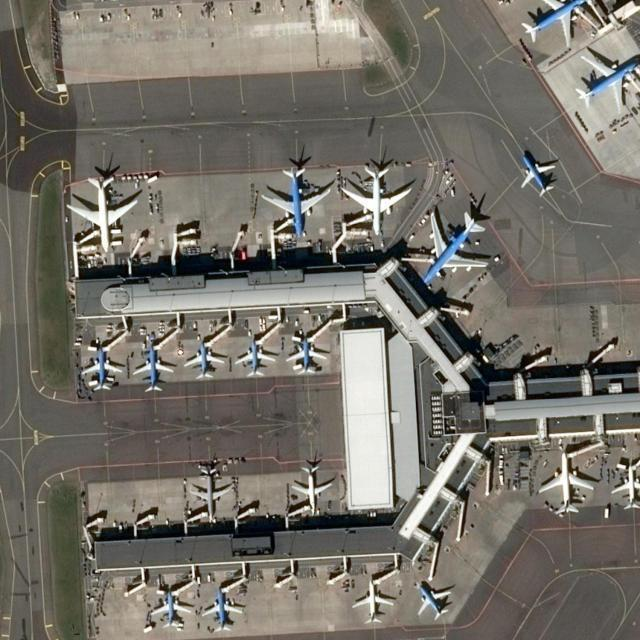Aircraft: (67, 173, 143, 253), (419, 204, 493, 286), (339, 160, 415, 236), (260, 162, 333, 239), (574, 53, 640, 111), (520, 1, 596, 49), (539, 451, 595, 516), (188, 461, 234, 519), (289, 461, 336, 515), (134, 344, 174, 394), (81, 347, 125, 392), (350, 579, 394, 624), (519, 150, 561, 197), (203, 585, 245, 632), (286, 332, 328, 376), (151, 584, 193, 628), (414, 579, 456, 621), (234, 339, 276, 378), (184, 340, 225, 379), (612, 461, 640, 511)
